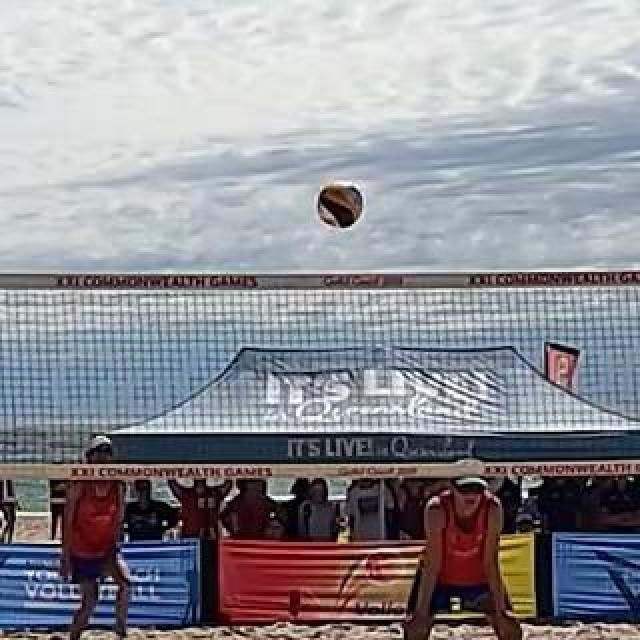volleyball: (315, 183, 363, 229)
